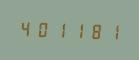eight: (86, 20, 102, 41)
four: (17, 18, 33, 38)
one: (69, 19, 85, 40), (52, 19, 68, 39), (103, 21, 119, 41)
zero: (34, 18, 50, 39)
